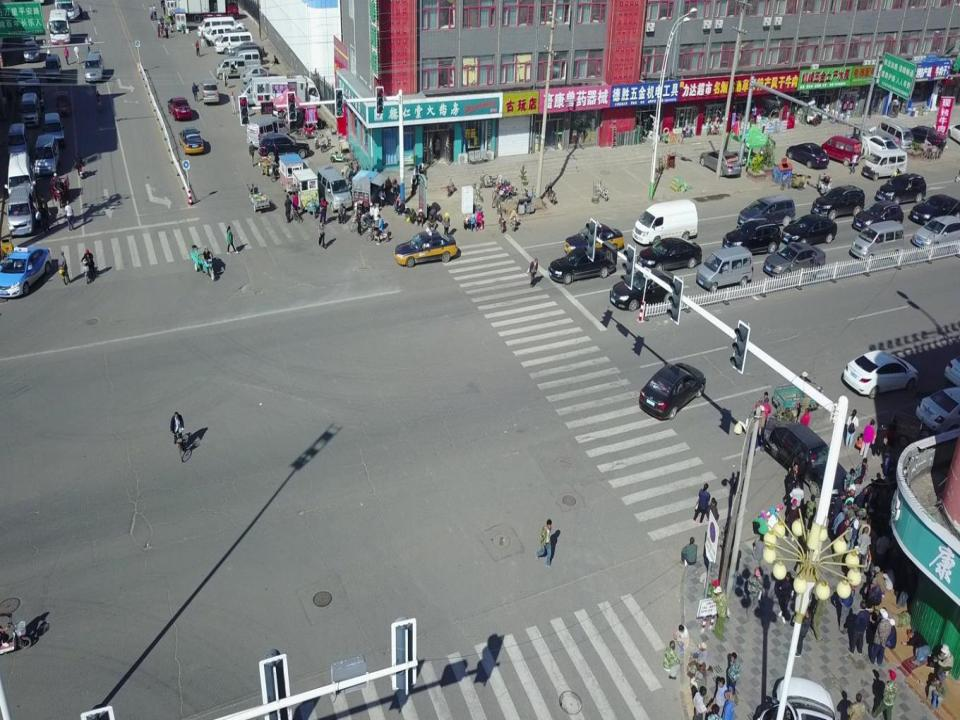bus: (48, 10, 72, 46)
car: (762, 419, 852, 502), (639, 362, 706, 421), (843, 350, 918, 399), (610, 268, 678, 311), (547, 244, 616, 283), (1, 246, 52, 298), (394, 227, 458, 268), (637, 237, 702, 274), (763, 241, 826, 279), (722, 218, 782, 256), (915, 386, 960, 433), (564, 223, 624, 258), (811, 184, 865, 221), (782, 212, 837, 246), (852, 199, 904, 234), (875, 172, 926, 205), (910, 194, 959, 224), (258, 133, 310, 159), (699, 149, 742, 177), (785, 143, 829, 168), (904, 125, 946, 151), (860, 135, 901, 160), (178, 127, 204, 154), (240, 65, 274, 84), (167, 96, 193, 120), (230, 42, 266, 58), (16, 68, 38, 92), (220, 18, 246, 32), (23, 41, 39, 61)
truck: (252, 75, 320, 108), (166, 0, 240, 23), (862, 148, 908, 180)
van: (633, 198, 698, 246), (696, 244, 753, 292), (850, 219, 904, 264), (737, 195, 795, 232), (912, 215, 960, 251), (4, 151, 35, 205), (317, 165, 352, 212), (246, 115, 290, 148), (876, 118, 914, 154), (8, 187, 34, 238), (820, 136, 862, 166), (33, 134, 60, 175), (42, 112, 66, 149), (214, 31, 252, 54), (7, 122, 30, 160), (239, 81, 272, 106), (197, 16, 234, 37), (19, 92, 41, 127), (213, 56, 246, 79), (230, 49, 262, 71), (24, 79, 45, 110), (42, 54, 63, 82), (84, 53, 104, 82), (200, 77, 220, 105), (205, 25, 233, 45)
